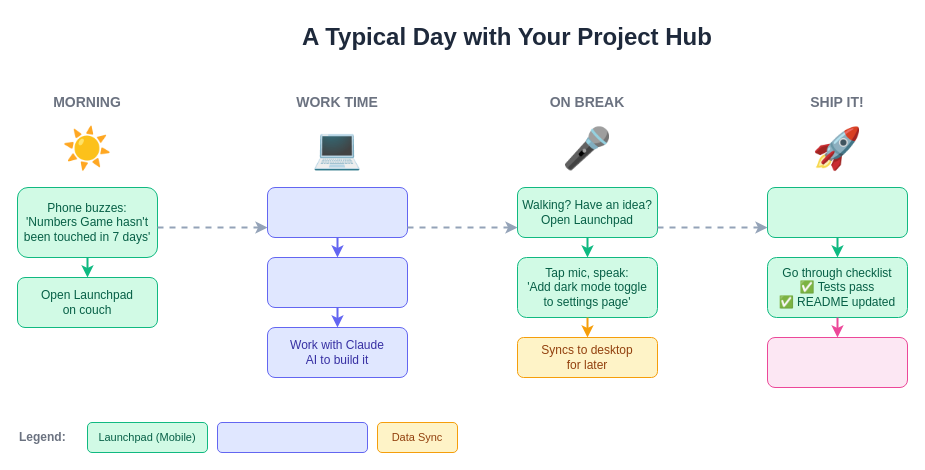
This 925x470 diagram has some shape labels left out. Each missing label, with the box of its shape:
Command Center (Desktop): (216, 422, 368, 452)
Open Command Center at your desk: (266, 186, 408, 238)
Pick a task from the pipeline: (266, 256, 408, 308)
Post to LinkedIn 🎉 Celebrate!: (766, 336, 908, 388)
Project ready? Open Ship Wizard: (766, 186, 908, 238)
